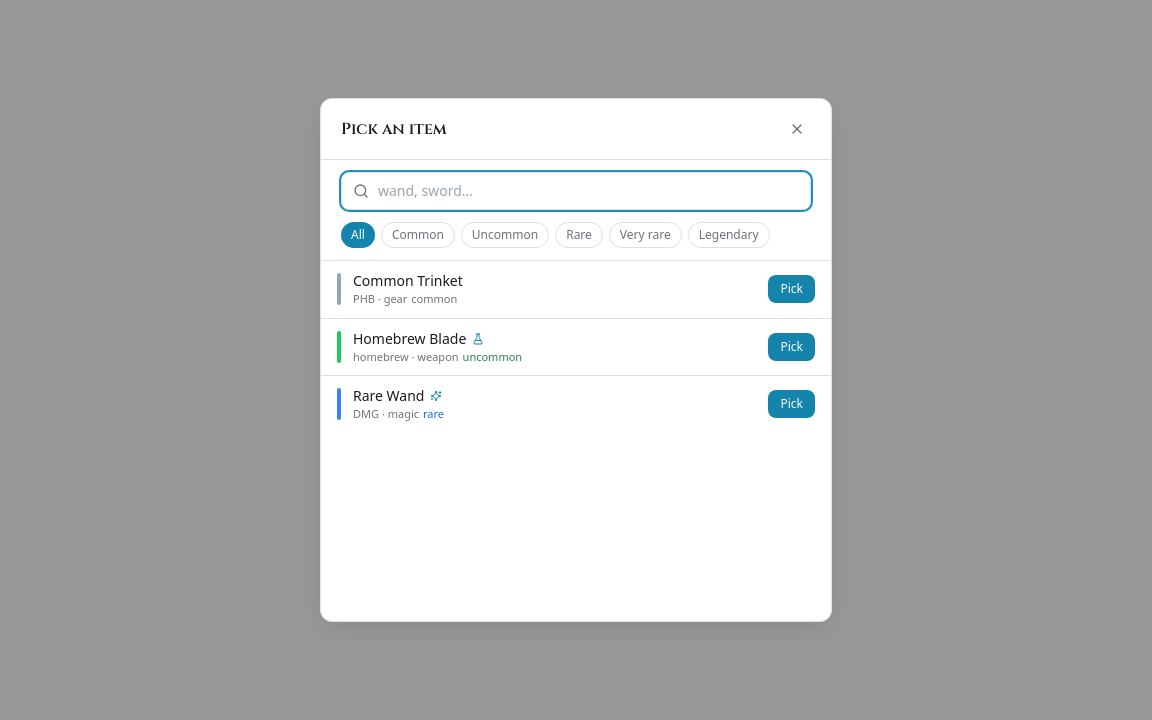
ItemPicker (R9.6) › rarity chip filters the result list
Click the button "Rare" at (579, 235), box top-left (555, 222), bottom-right (603, 248)
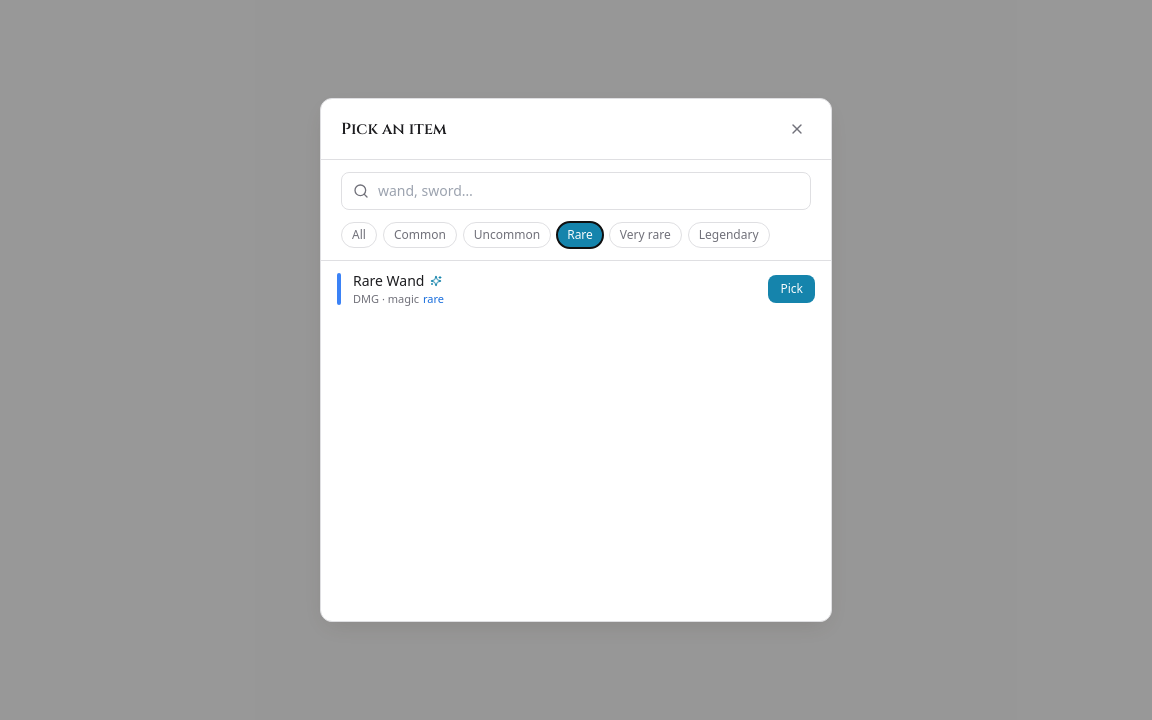
Expected: the text "Rare Wand" is shown, top-left (353, 271), bottom-right (424, 291)
Expected: the number of list items is 1, top-left (321, 261), bottom-right (831, 318)
